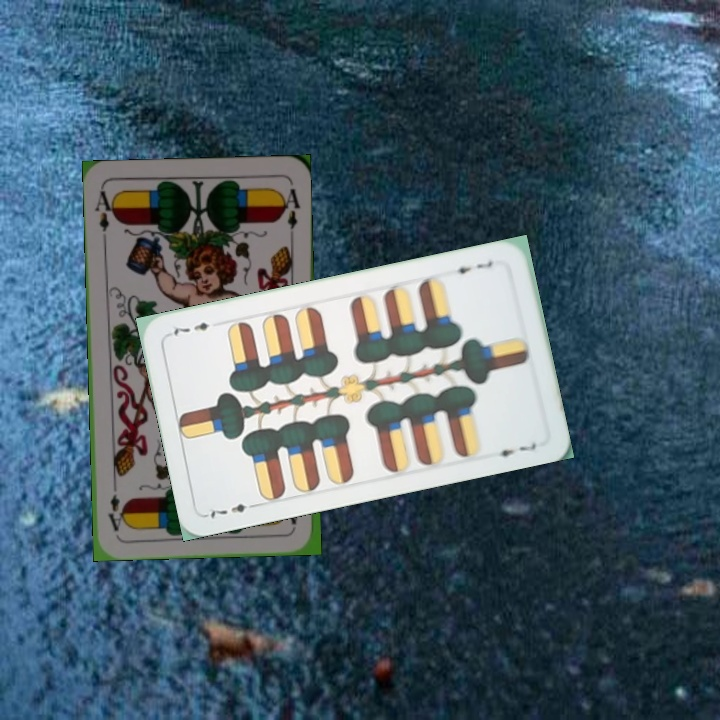E7: (205, 499, 261, 520), (447, 256, 497, 277)
EA: (90, 186, 118, 244)
